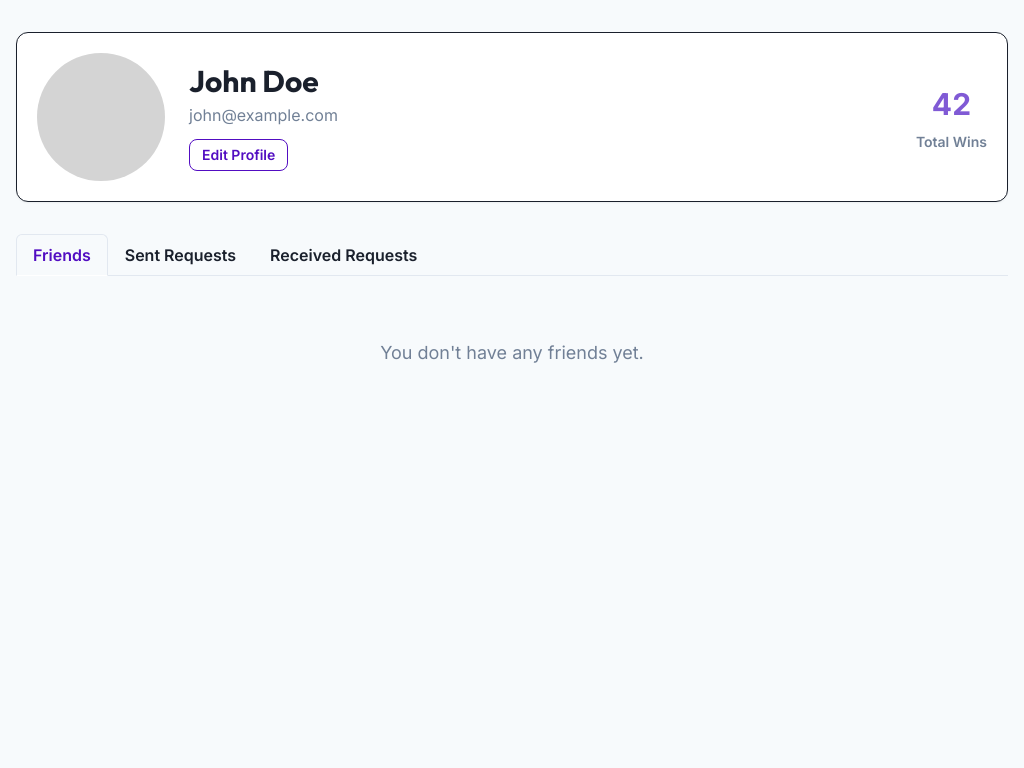
Test: ProfilePage › opens edit profile modal when edit button clicked
Click the button "Edit Profile".
click(239, 155)  # box [189,139,288,171]
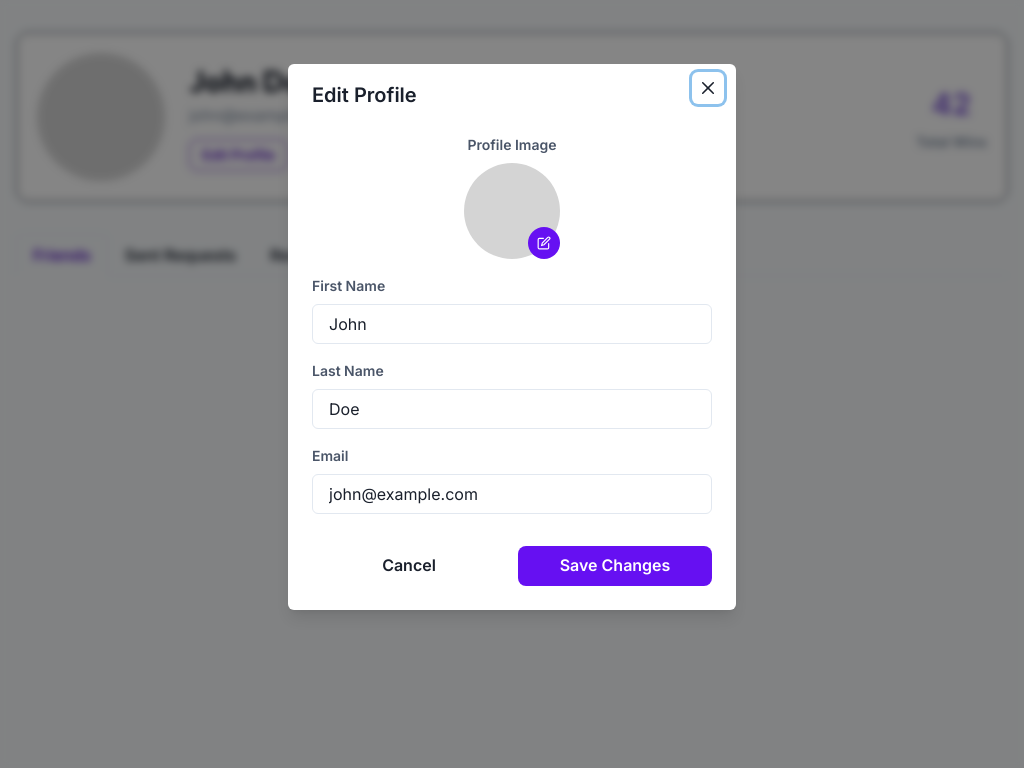
Now the field with placeholder "Enter first name" below "First Name" is shown, box [312,304,712,344]
Now the field with placeholder "Enter last name" below "Last Name" is shown, box [312,389,712,429]
